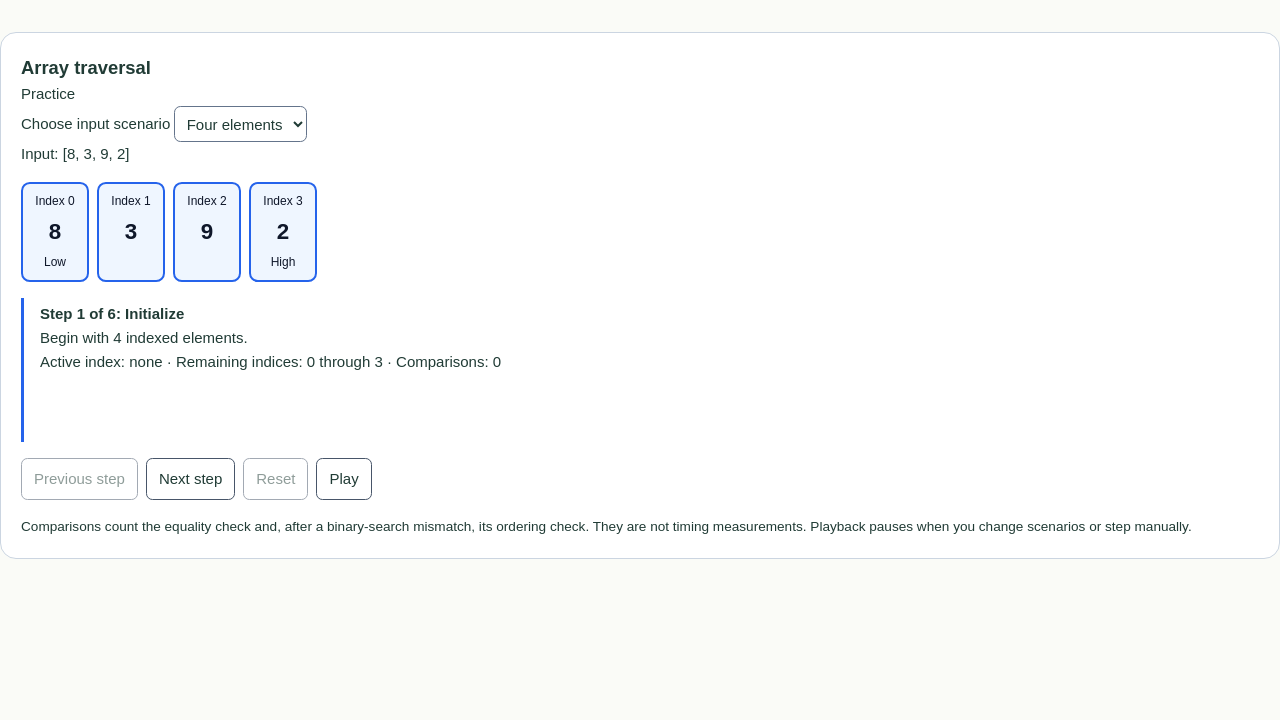
Test: array algorithm traces › stops playback at the final step and cancels it when the scenario changes
Click the button "Play" at (344, 479), box [316, 458, 372, 500]
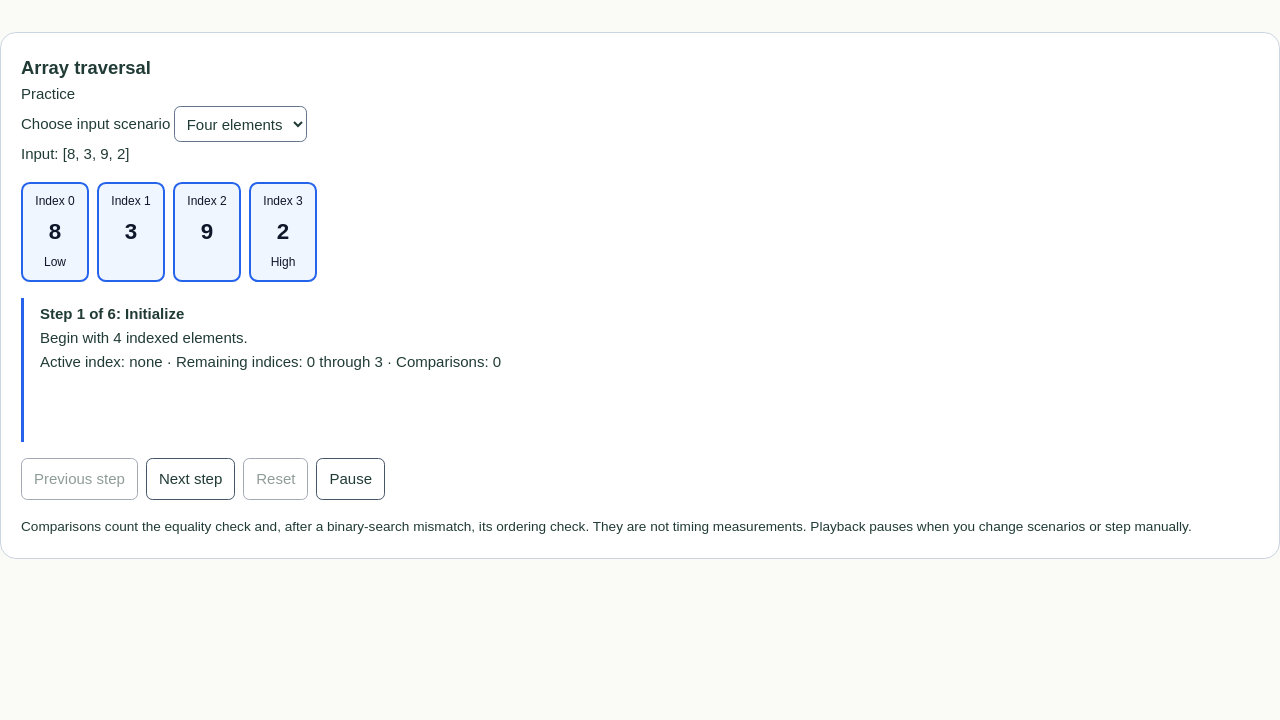
Select "One element" in the dropdown labelled "Choose input scenario" at (241, 124), box [174, 106, 307, 142]
Wait 1000 ms
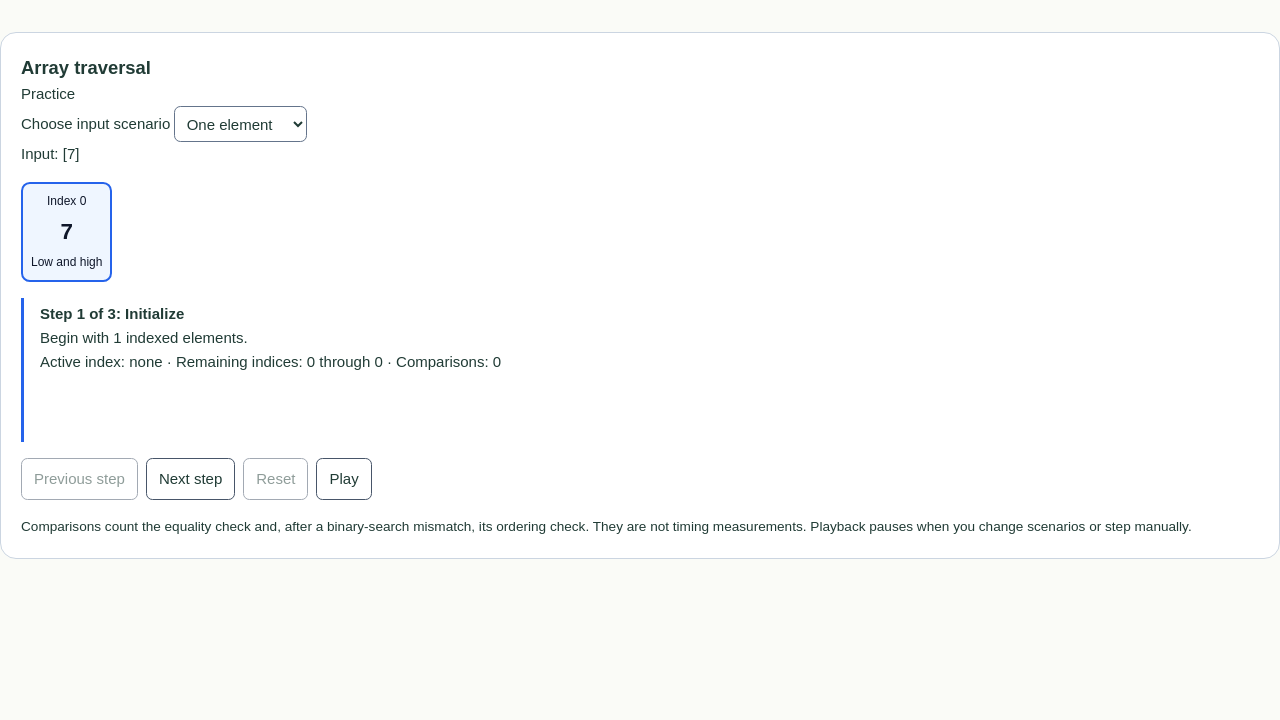
Expected: the text "Step 1 of 3: Initialize" is shown, [40, 305, 184, 322]
Click the button "Play" at (344, 479), box [316, 458, 372, 500]
Wait 1800 ms
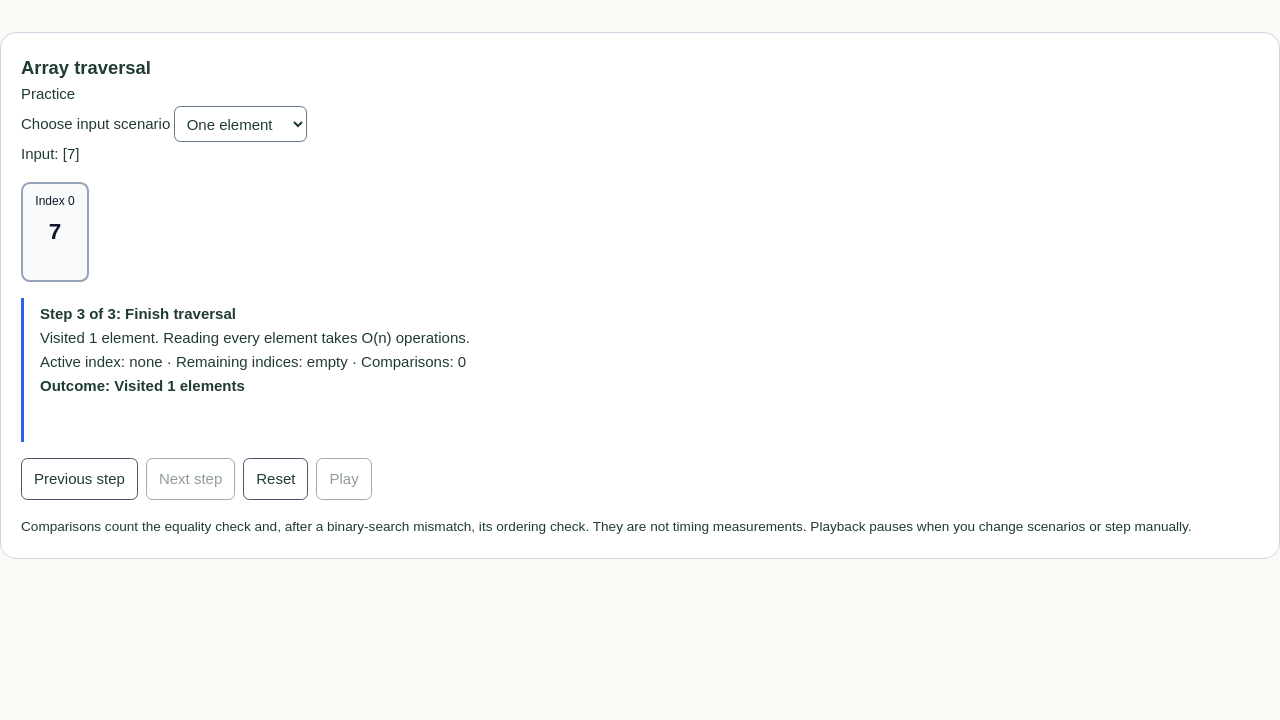
Expected: the text "Step 3 of 3: Finish traversal" is shown, [40, 305, 236, 322]
Expected: the button "Play" is disabled, [316, 458, 372, 500]
